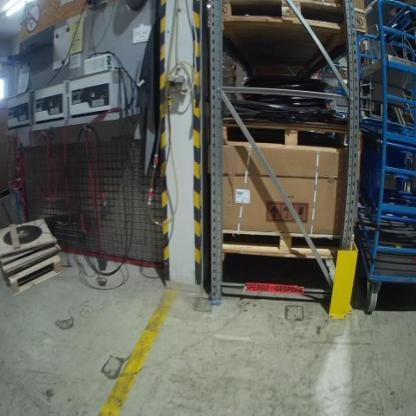pallets: (207, 1, 348, 90), (206, 118, 366, 161), (211, 219, 357, 266)
